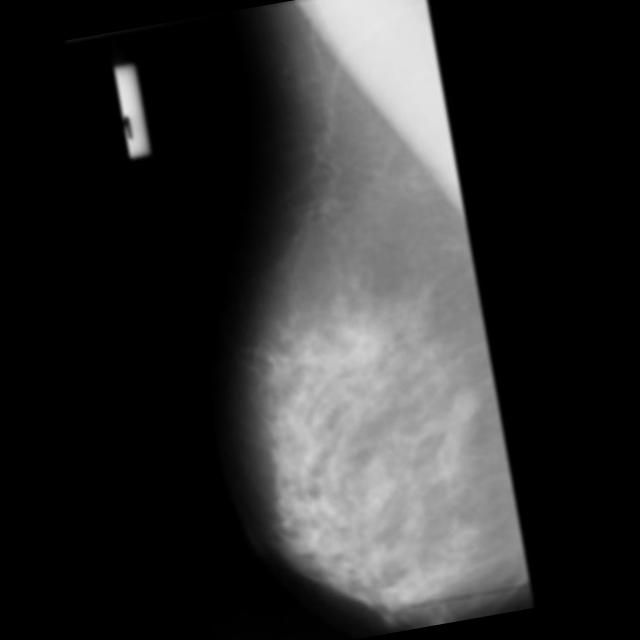ASYM: (446, 387, 480, 421)
